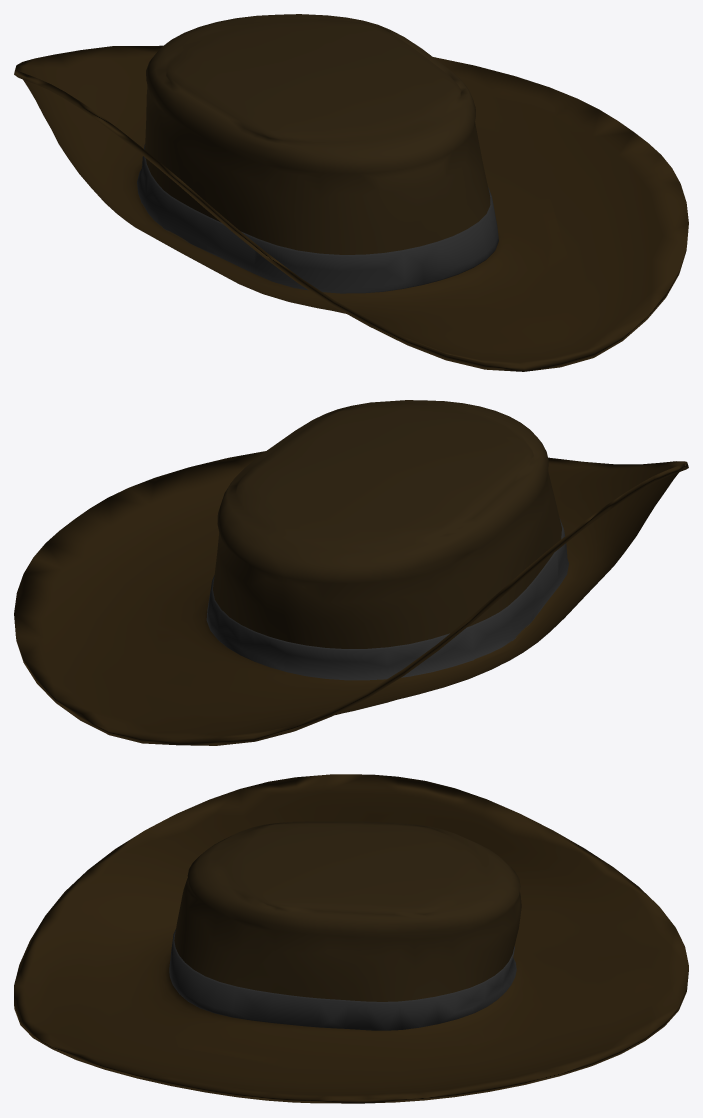
Rendered from outfit_cavalier_hat.glb.
3 views of the same model, one above another, from view 1: azimuth 30°, elevation 25°; view 2: azimuth 150°, elevation 25°; view 3: azimuth 270°, elevation 25° (orthographic). The views are drawn at different scales.
Parts seen in each view (by area): view 1: outfit_cavalier_hat; view 2: outfit_cavalier_hat; view 3: outfit_cavalier_hat.
Boxes of the visible parts, bbox=[...] form: outfit_cavalier_hat: bbox=[14, 14, 688, 371]; outfit_cavalier_hat: bbox=[14, 400, 688, 745]; outfit_cavalier_hat: bbox=[14, 774, 688, 1103].
Size of the model in its own units: 1.01 by 0.2996 by 1.36.
